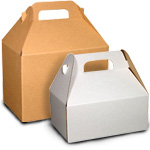Rec_Paper: (1, 5, 111, 126), (43, 53, 148, 145)
